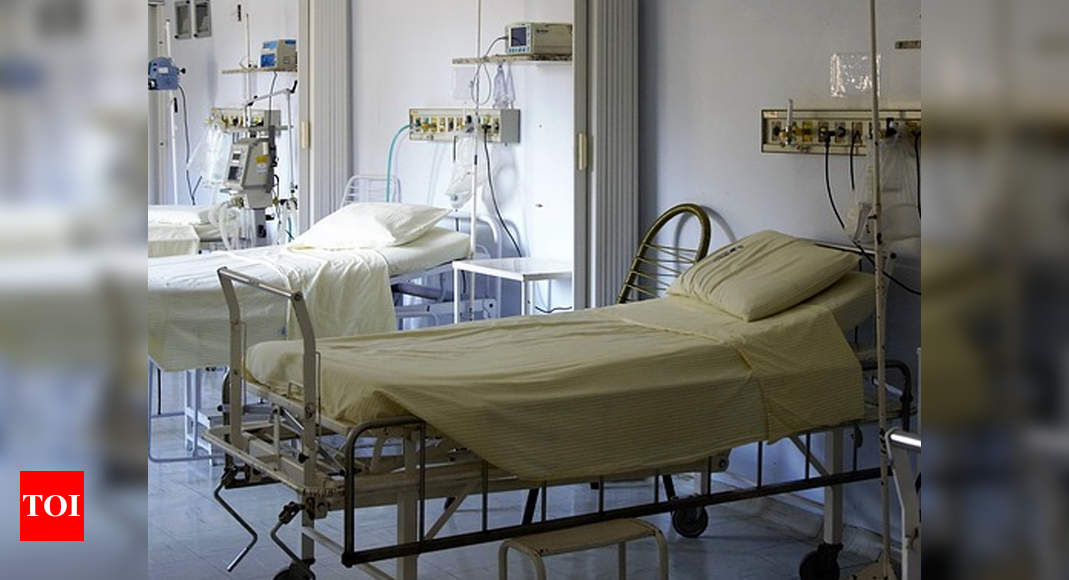trolley_bed: (215, 231, 912, 578), (147, 203, 507, 470)
